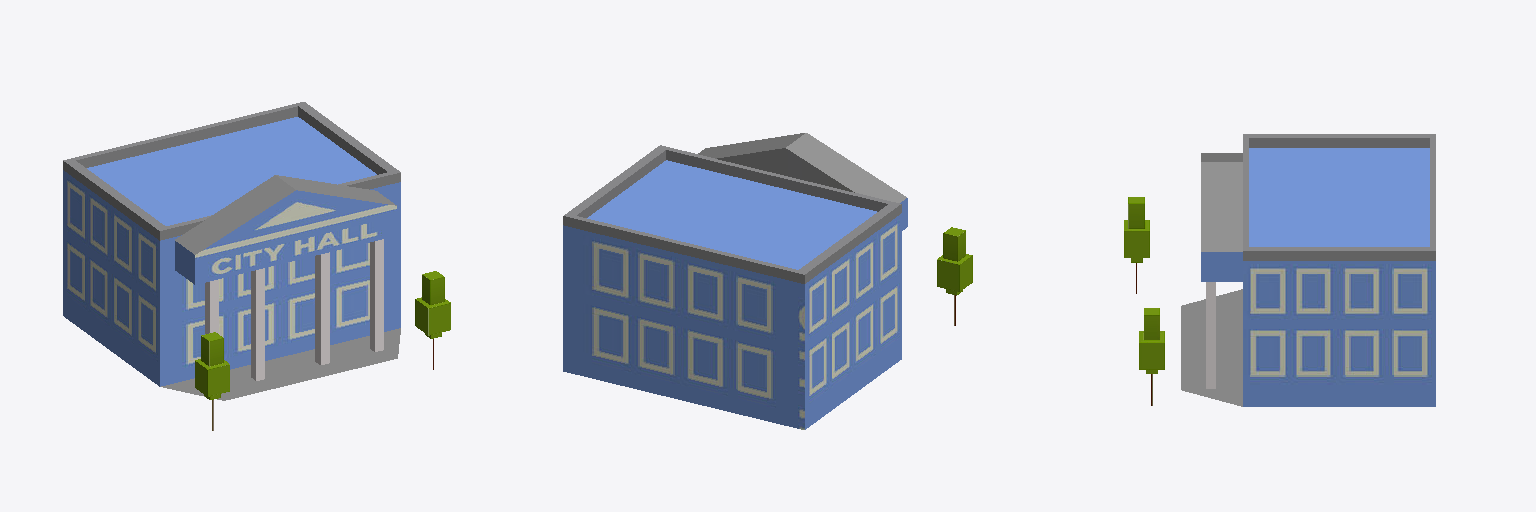
3 views of the same model, side by side, from view 1: azimuth 30°, elevation 25°; view 2: azimuth 150°, elevation 25°; view 3: azimuth 270°, elevation 25° (orthographic).
Visible parts, largest first — view 1: service_administration_Cube.020, Tree_2_3_61.439_Mesh.9326, Tree_2_3_61.438_Mesh.9325; view 2: service_administration_Cube.020, Tree_2_3_61.439_Mesh.9326; view 3: service_administration_Cube.020, Tree_2_3_61.438_Mesh.9325, Tree_2_3_61.439_Mesh.9326.
Part boxes in pixels (left/top/right/bottom): service_administration_Cube.020: left=63, top=102, right=400, bottom=400; Tree_2_3_61.439_Mesh.9326: left=195, top=332, right=229, bottom=430; Tree_2_3_61.438_Mesh.9325: left=415, top=271, right=450, bottom=369; service_administration_Cube.020: left=563, top=133, right=907, bottom=429; Tree_2_3_61.439_Mesh.9326: left=937, top=227, right=972, bottom=325; service_administration_Cube.020: left=1181, top=134, right=1435, bottom=406; Tree_2_3_61.438_Mesh.9325: left=1139, top=308, right=1164, bottom=405; Tree_2_3_61.439_Mesh.9326: left=1124, top=197, right=1149, bottom=293.
Size of the model in its own units: 1.76 by 1.25 by 1.88.
Materials: 2 (2 with a texture image).